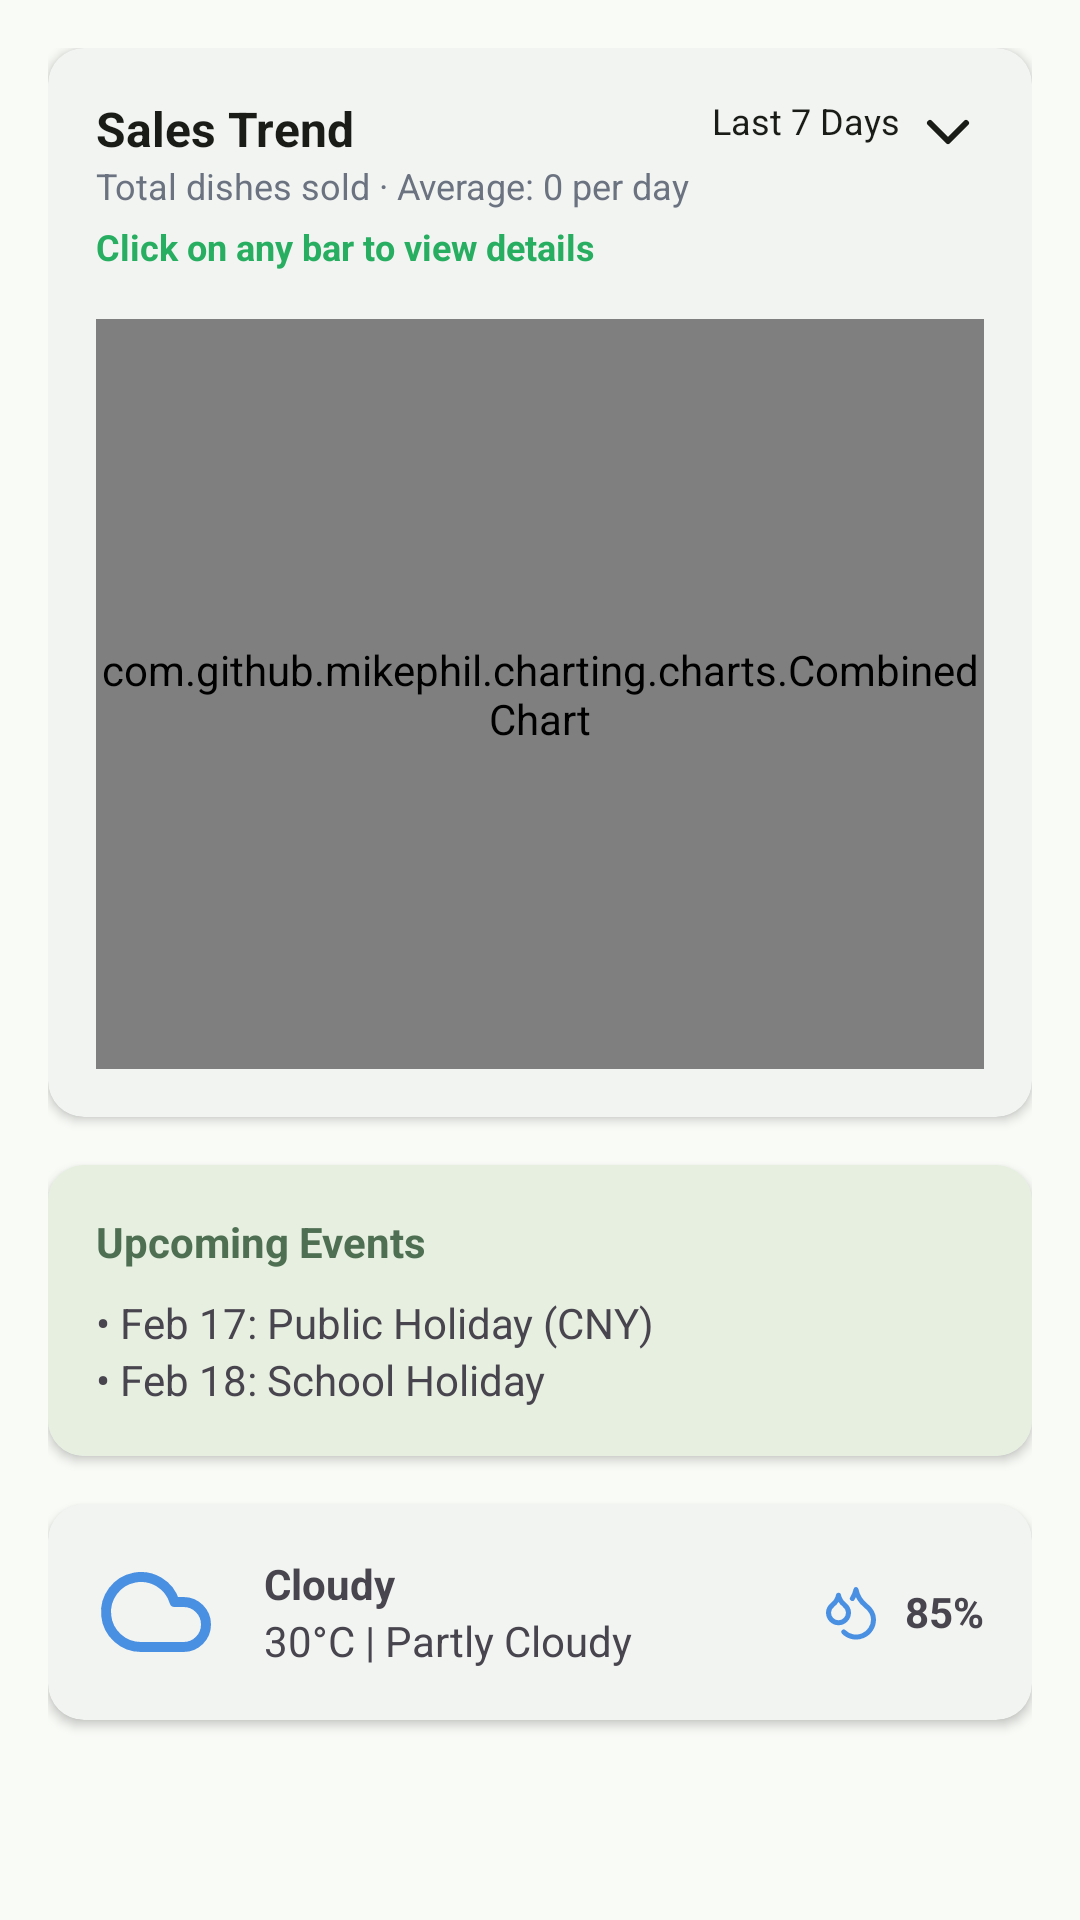

Icons on this 1080×1920 Android screen, each with its box as (x1, y1, x2, y2):
droplets: (826, 1587, 876, 1640)
